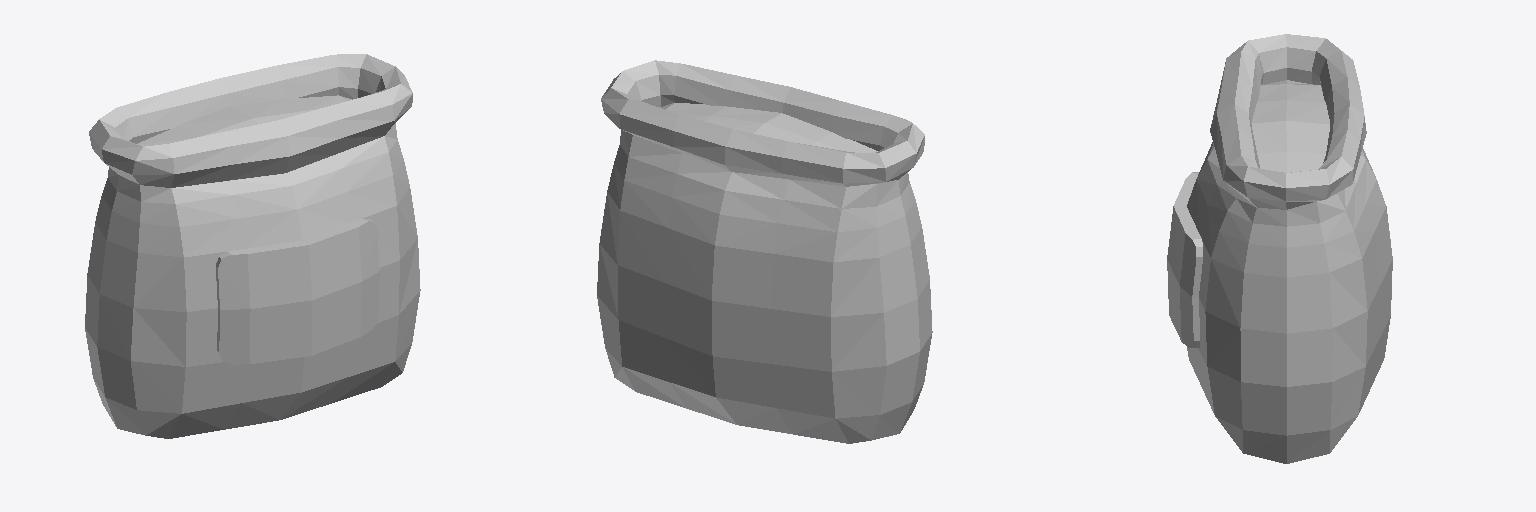
Rendered from flour_sack_open.obj.
3 renders of one model, left to right at view 1: azimuth 30°, elevation 25°; view 2: azimuth 150°, elevation 25°; view 3: azimuth 270°, elevation 25°, orthographic.
Visible parts, largest first — view 1: flour_sack_open; view 2: flour_sack_open; view 3: flour_sack_open.
Part boxes in pixels (bbox=[...]): flour_sack_open: bbox=[85, 54, 420, 438]; flour_sack_open: bbox=[597, 60, 932, 443]; flour_sack_open: bbox=[1167, 34, 1392, 463].
Bounding box in the file's own units: 0.5338 × 0.5003 × 0.3359.